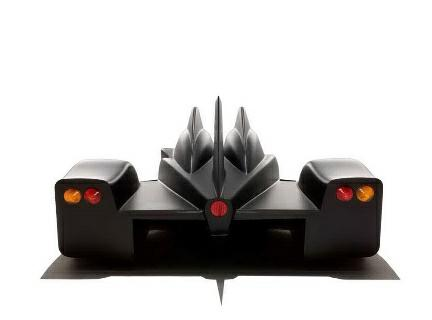日产-DeltaWing: (34, 100, 402, 300)
